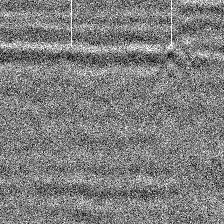Utility: (146, 40, 199, 89)
